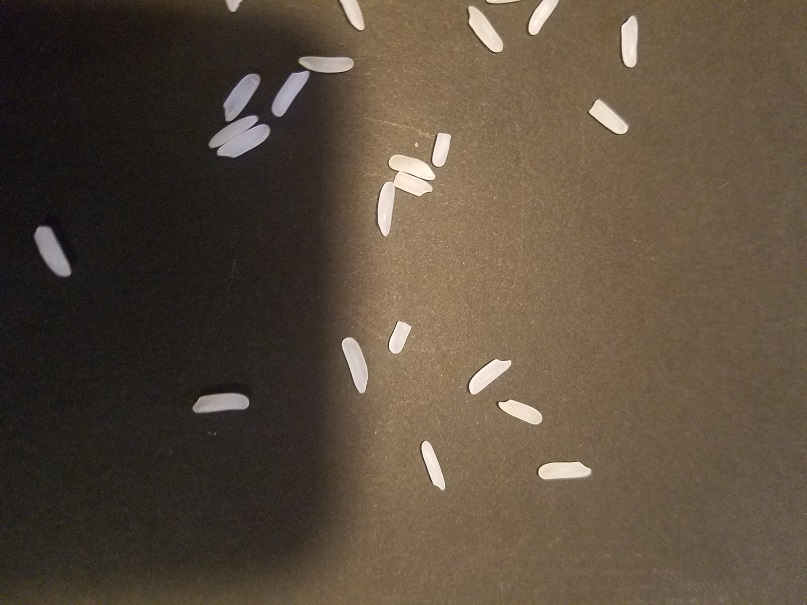egg: (31, 223, 72, 279), (217, 70, 262, 121), (215, 121, 272, 160), (269, 70, 313, 118), (464, 4, 506, 53), (207, 112, 259, 150), (465, 355, 513, 396), (339, 336, 371, 395), (583, 97, 631, 136), (496, 398, 547, 428), (420, 438, 448, 491), (387, 152, 437, 181), (191, 391, 249, 414), (525, 1, 561, 37), (375, 180, 397, 237), (534, 460, 592, 481), (298, 55, 355, 75), (394, 170, 435, 197), (621, 12, 638, 71), (387, 320, 414, 355), (339, 1, 368, 31), (431, 130, 453, 166), (224, 1, 242, 15)
